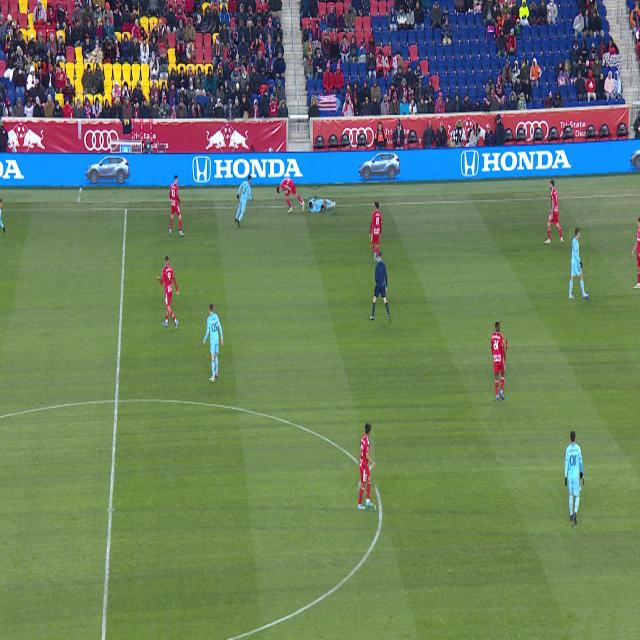player: (565, 432, 583, 525), (157, 256, 179, 329), (203, 305, 223, 381), (569, 229, 589, 299), (359, 424, 375, 510), (544, 180, 564, 244), (492, 322, 506, 400), (277, 178, 305, 212), (235, 176, 253, 227), (169, 176, 184, 235), (369, 202, 382, 262), (632, 217, 640, 289), (309, 197, 335, 213)
referee: (370, 252, 391, 322)
